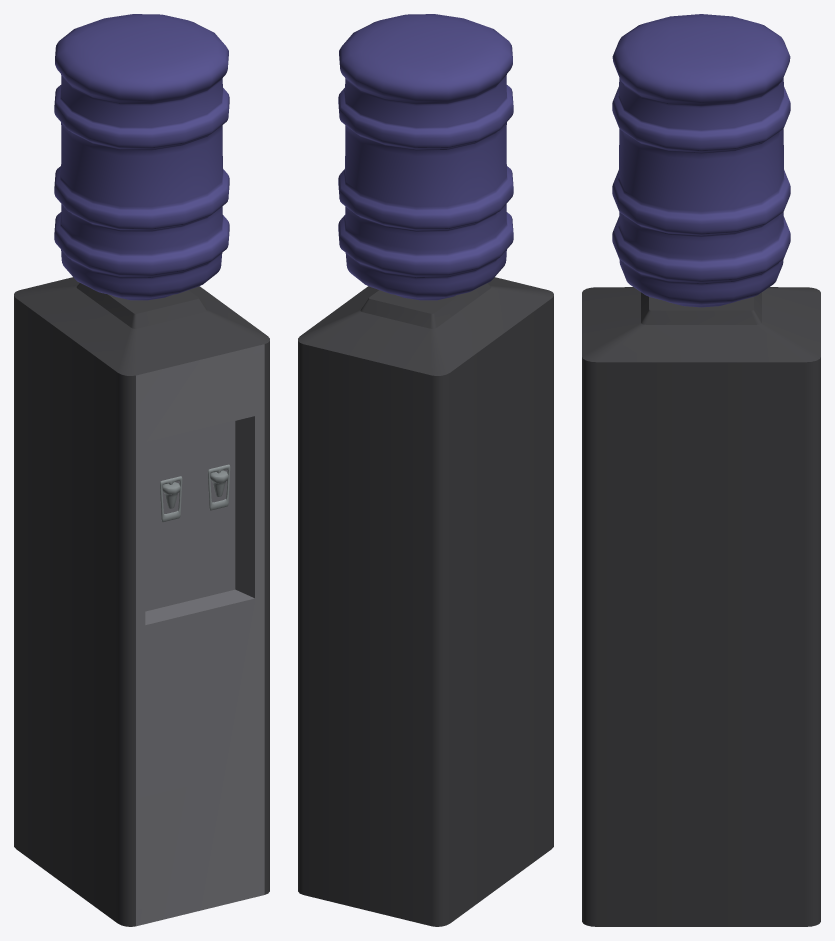
The model's file is Bebedouro.fbx.
3 renders of one model, left to right at view 1: azimuth 30°, elevation 25°; view 2: azimuth 150°, elevation 25°; view 3: azimuth 270°, elevation 25°, orthographic. The views are drawn at different scales.
Visible parts, largest first — view 1: Bebedouro, Bebedouro.Galao, Bebedouro.Troneira; view 2: Bebedouro, Bebedouro.Galao; view 3: Bebedouro, Bebedouro.Galao.
Part boxes in pixels (bbox=[...]): Bebedouro: bbox=[14, 277, 269, 926]; Bebedouro.Galao: bbox=[54, 14, 229, 300]; Bebedouro.Troneira: bbox=[160, 464, 230, 521]; Bebedouro: bbox=[298, 277, 553, 926]; Bebedouro.Galao: bbox=[338, 14, 513, 300]; Bebedouro: bbox=[582, 287, 820, 926]; Bebedouro.Galao: bbox=[612, 14, 790, 307].
Bounding box in the file's own units: 39.23 × 206 × 52.52.
